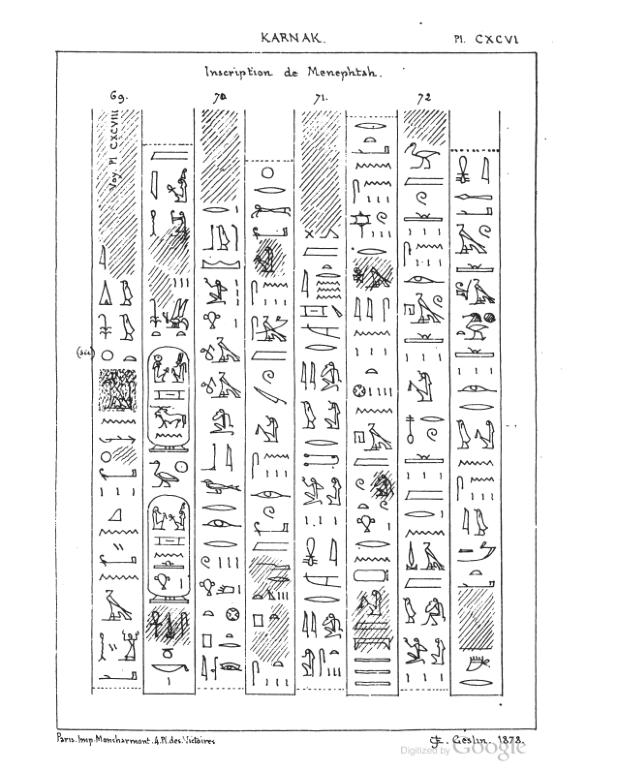circle: (144, 342, 192, 455), (145, 494, 193, 605)
